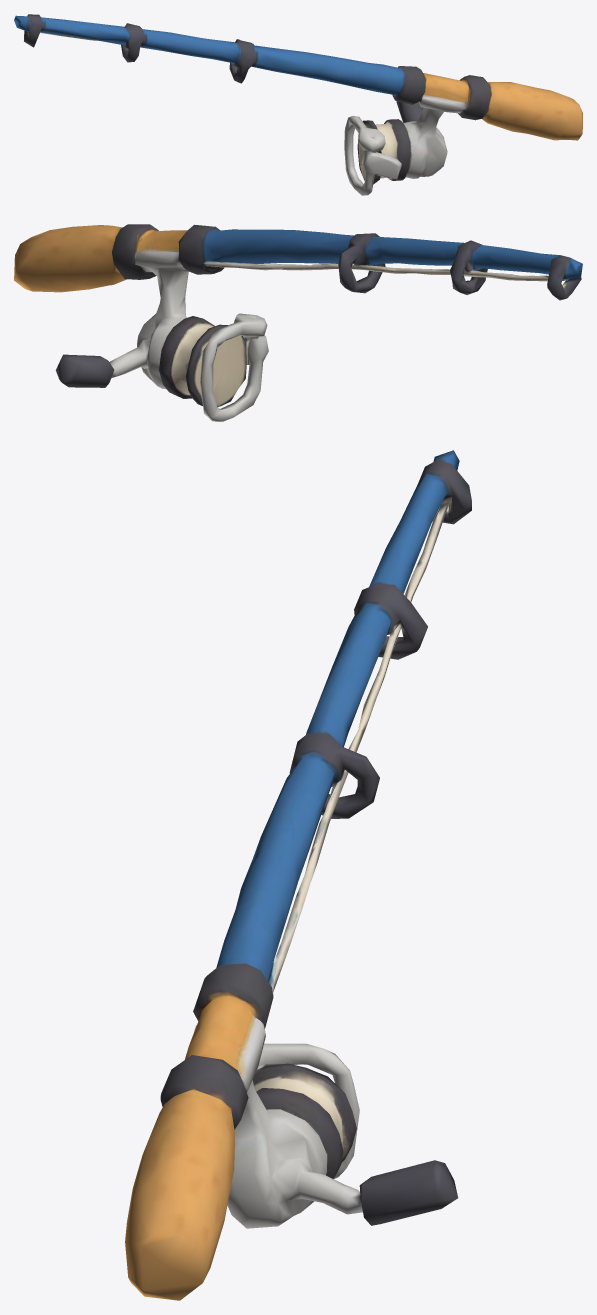
Rendered from rod-2.glb.
3 renders of one model, top to bottom at view 1: azimuth 30°, elevation 25°; view 2: azimuth 150°, elevation 25°; view 3: azimuth 270°, elevation 25°, orthographic. The views are drawn at different scales.
Visible parts, largest first — view 1: tripo_node_61c38f8d-4b82-4e21-80f1-8ae01a004a89; view 2: tripo_node_61c38f8d-4b82-4e21-80f1-8ae01a004a89; view 3: tripo_node_61c38f8d-4b82-4e21-80f1-8ae01a004a89.
Part boxes in pixels (x1,y1,x2,y2): tripo_node_61c38f8d-4b82-4e21-80f1-8ae01a004a89: (14,14,582,195); tripo_node_61c38f8d-4b82-4e21-80f1-8ae01a004a89: (14,224,582,421); tripo_node_61c38f8d-4b82-4e21-80f1-8ae01a004a89: (125,450,471,1300).
Size of the model in its own units: 1 by 0.4253 by 0.3057.
Materials: 1 (1 with a texture image).
